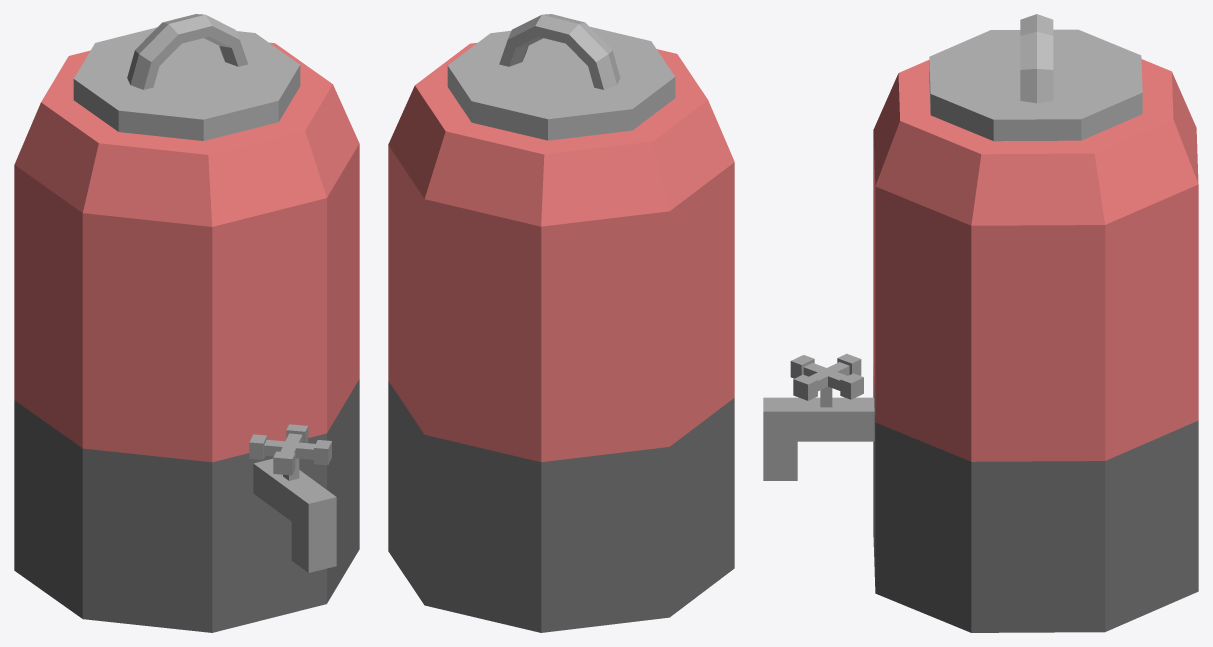
File: potion machine.fbx
3 views of the same model, side by side, from view 1: azimuth 30°, elevation 25°; view 2: azimuth 150°, elevation 25°; view 3: azimuth 270°, elevation 25° (orthographic).
Visible parts, largest first — view 1: polySurface41, polySurface43; view 2: polySurface41; view 3: polySurface41, polySurface43.
Part boxes in pixels (bbox=[...]): polySurface41: bbox=[14, 14, 359, 632]; polySurface43: bbox=[249, 424, 336, 572]; polySurface41: bbox=[388, 14, 734, 632]; polySurface41: bbox=[873, 14, 1198, 632]; polySurface43: bbox=[763, 353, 874, 480].
Size of the model in its own units: 186 by 342 by 249.
